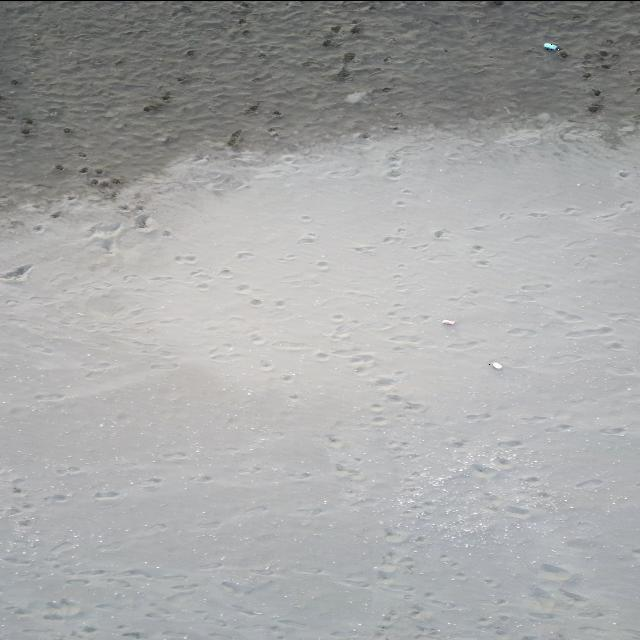Garbage: (544, 42, 560, 51), (488, 360, 502, 368), (443, 319, 455, 324)
